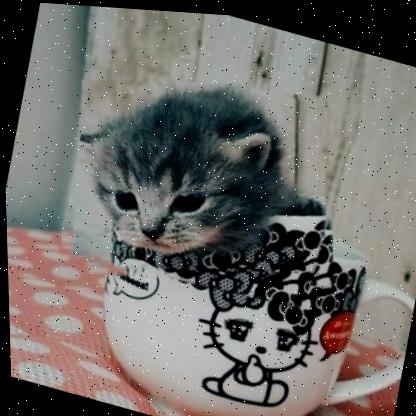cat: (52, 41, 363, 329)
